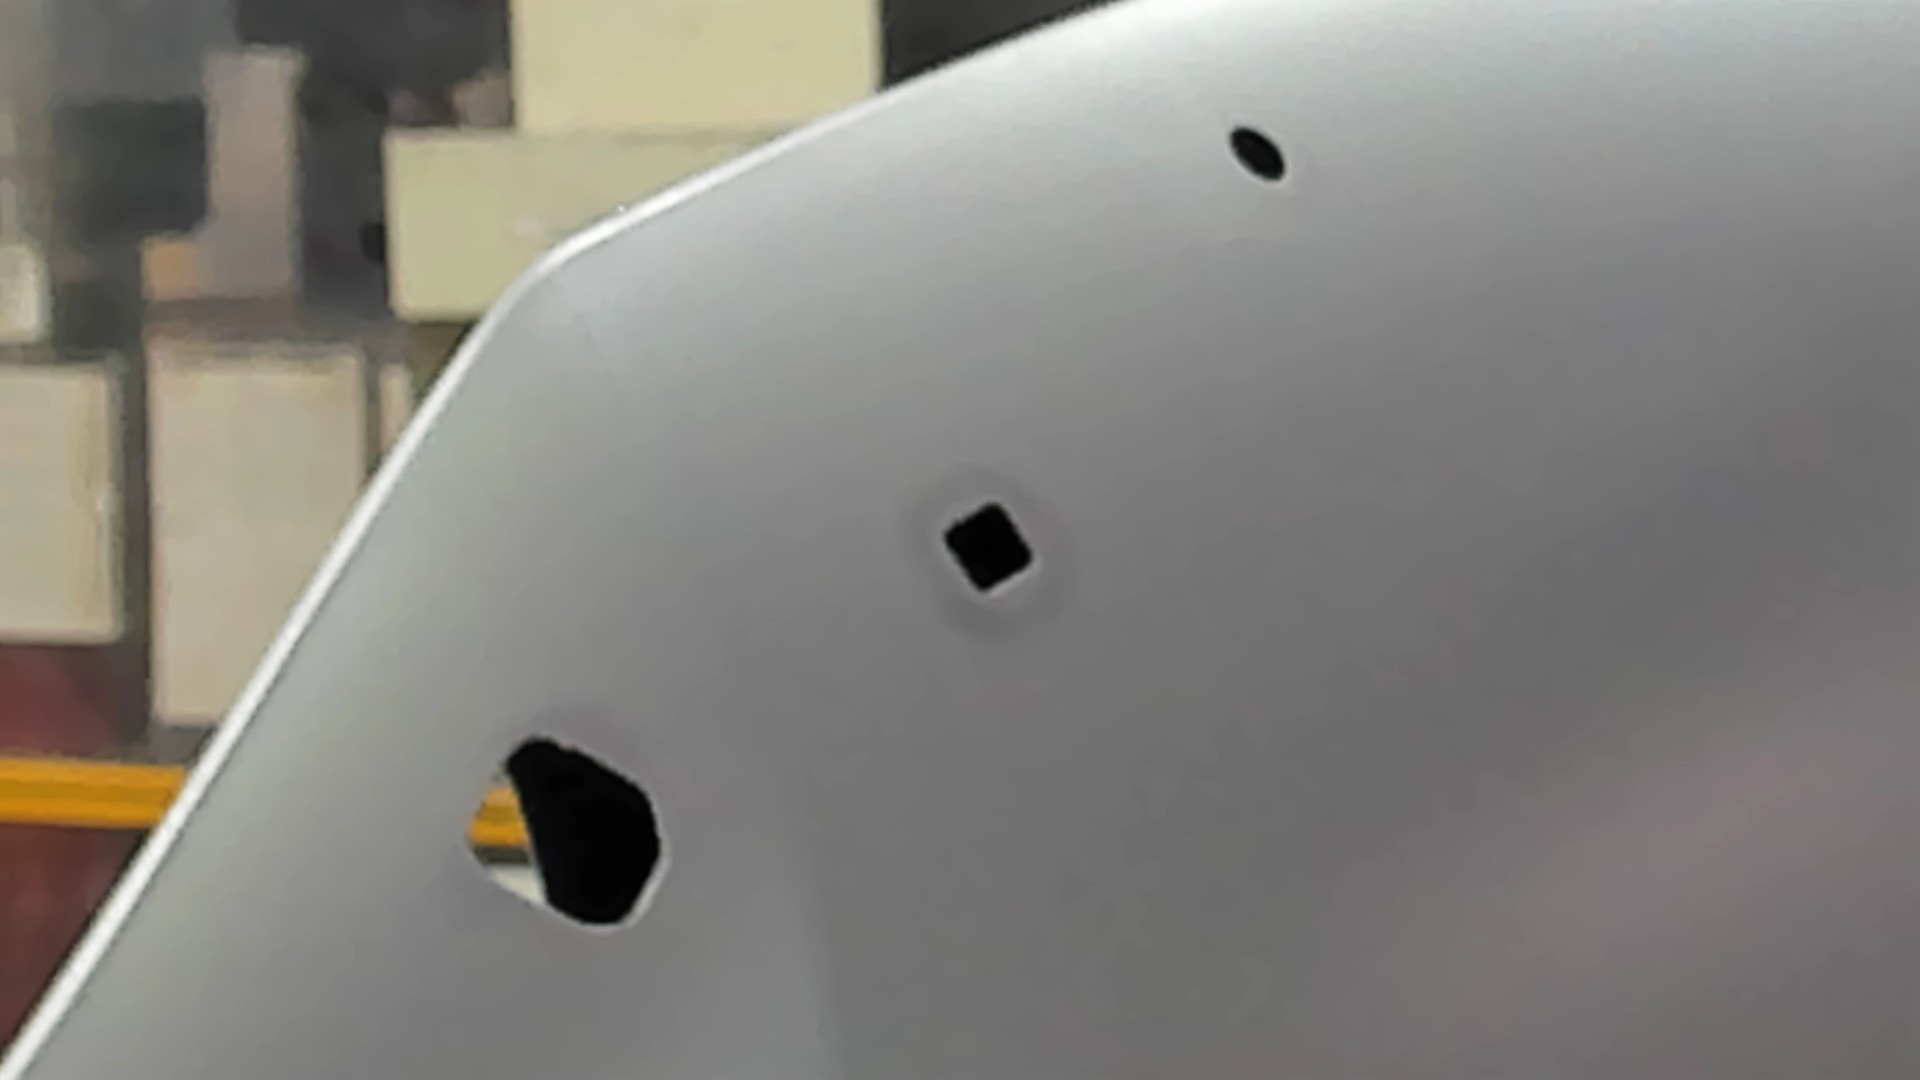chico: (1226, 119, 1288, 187)
grande: (460, 731, 671, 940)
mediano: (938, 497, 1042, 600)
